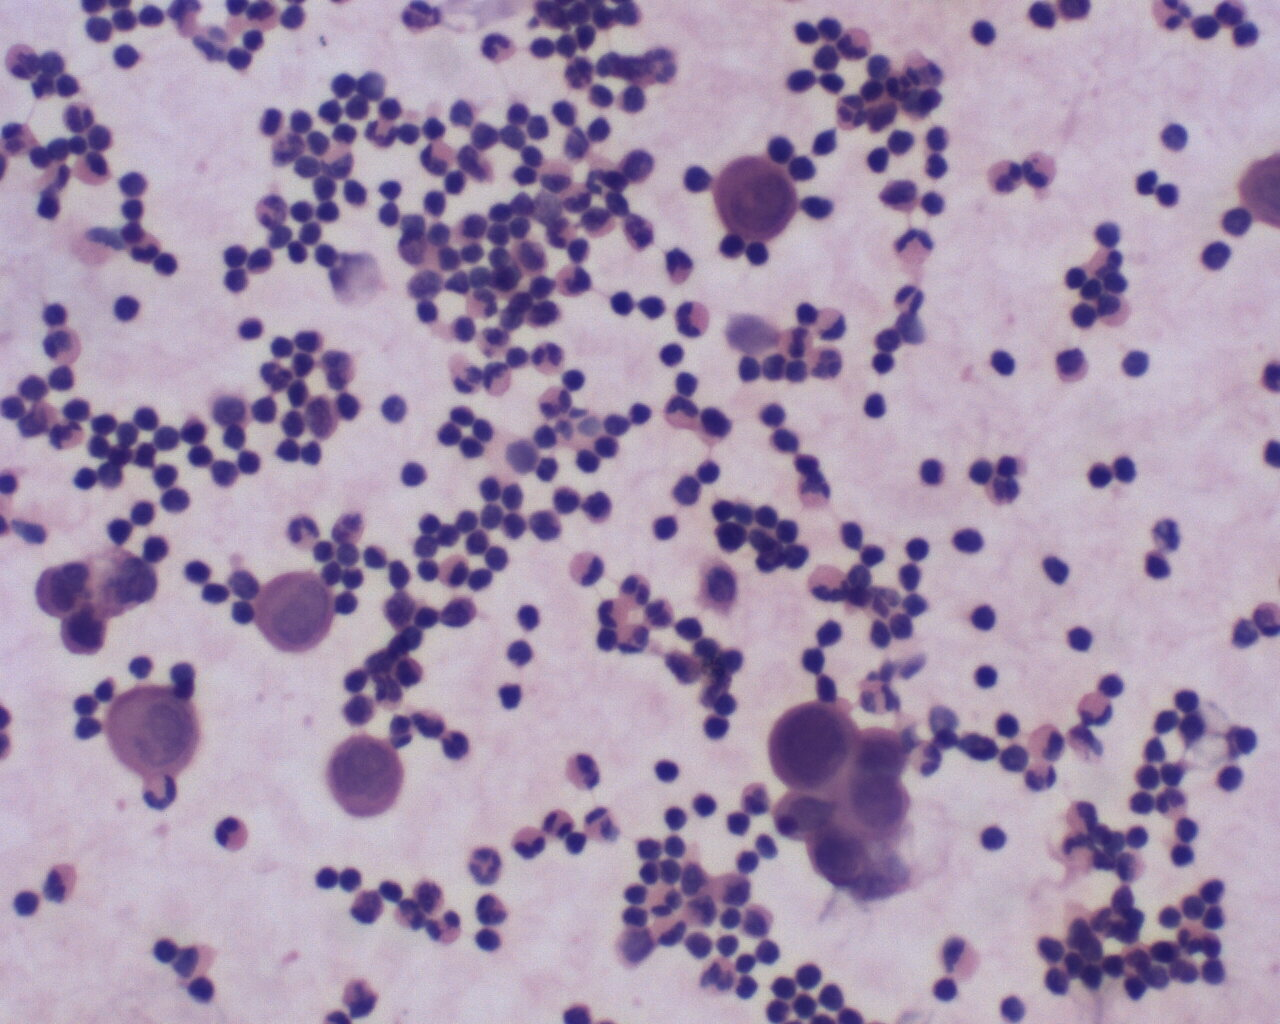ab: (101, 684, 208, 785), (768, 699, 863, 797), (245, 564, 338, 661), (712, 152, 799, 249), (318, 734, 405, 823), (807, 822, 880, 897), (851, 717, 908, 776)
lymph: (945, 523, 993, 562), (1116, 343, 1156, 385), (965, 15, 1007, 52), (395, 459, 435, 493), (975, 820, 1013, 856), (646, 753, 684, 788), (860, 391, 897, 425), (110, 288, 141, 325), (968, 660, 1000, 695), (929, 974, 960, 1005)
neutro: (533, 378, 579, 426), (1017, 147, 1062, 195), (527, 338, 571, 379), (673, 299, 715, 342), (616, 567, 657, 611), (286, 508, 325, 551), (829, 92, 870, 130), (478, 30, 518, 67), (511, 824, 550, 861)
